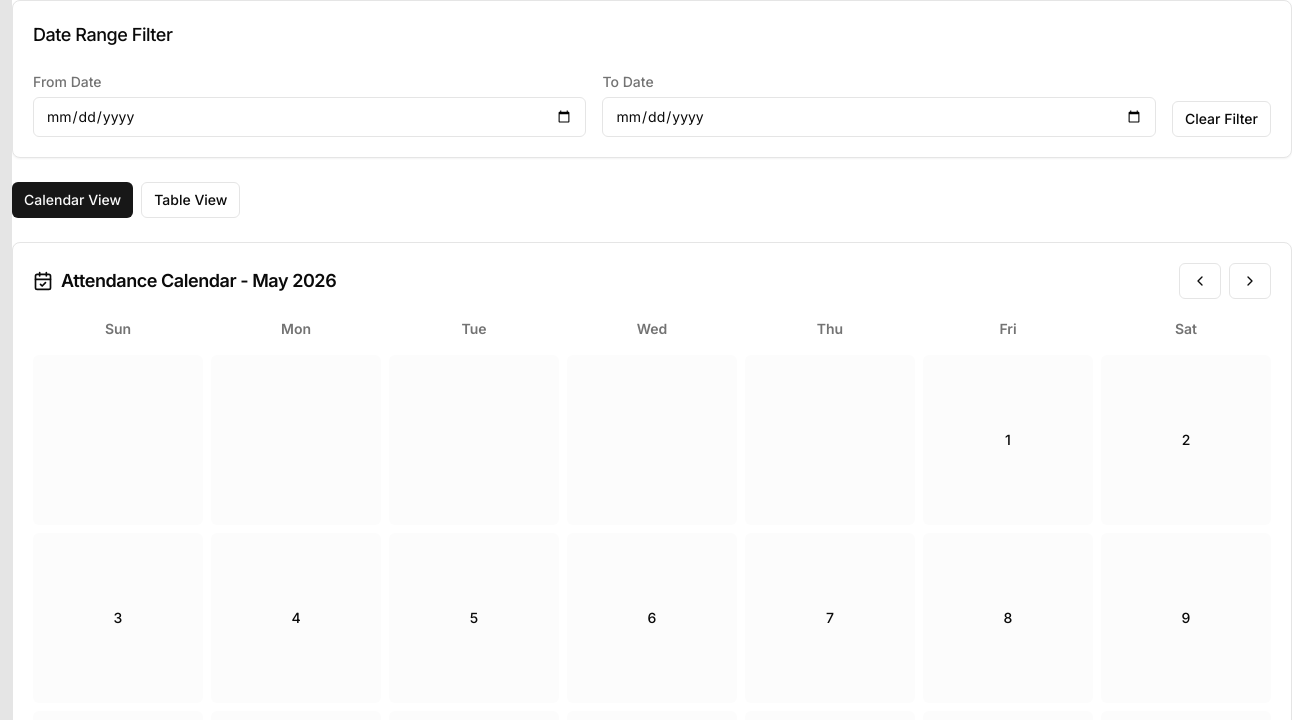
Test: AttendanceHistory Component › Date Range Filter › should clear filter when clear button is clicked
Type "2024-01-16" into the date field labelled "From Date" at (310, 117), box [33,97,586,137]
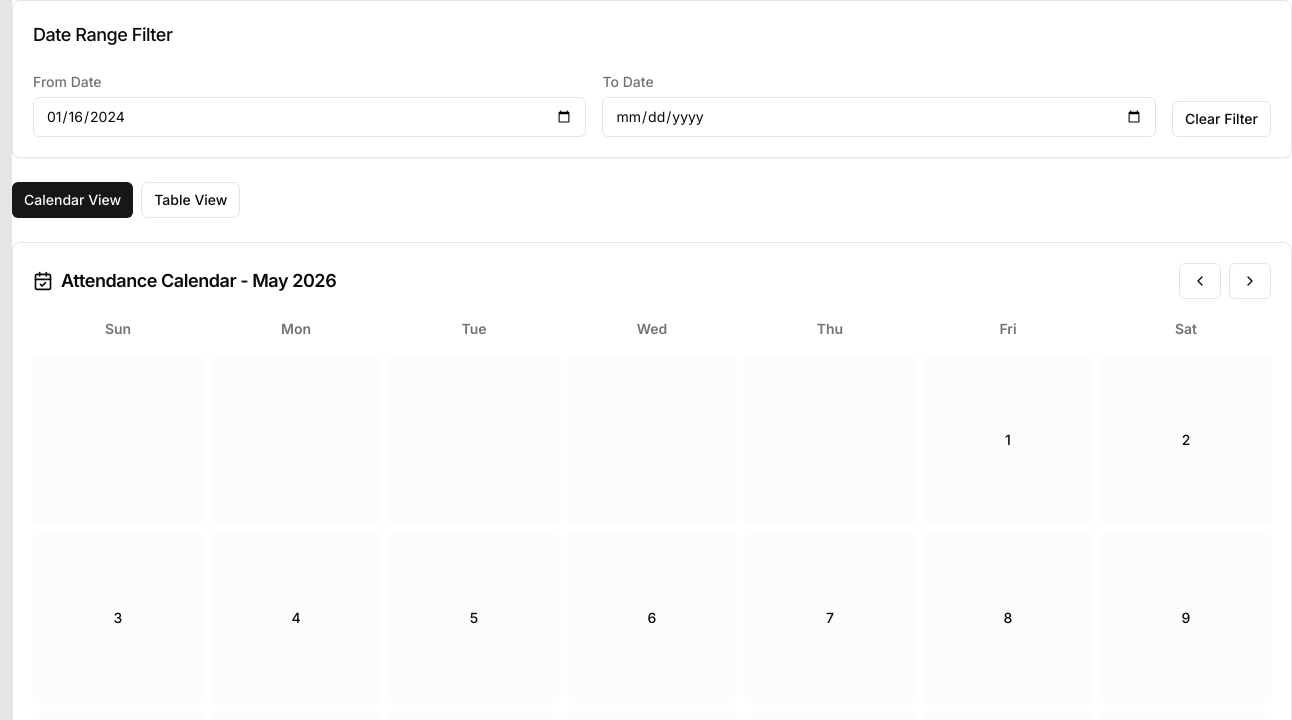
Click the button "Clear Filter" at (1222, 119), box [1172,101,1271,137]
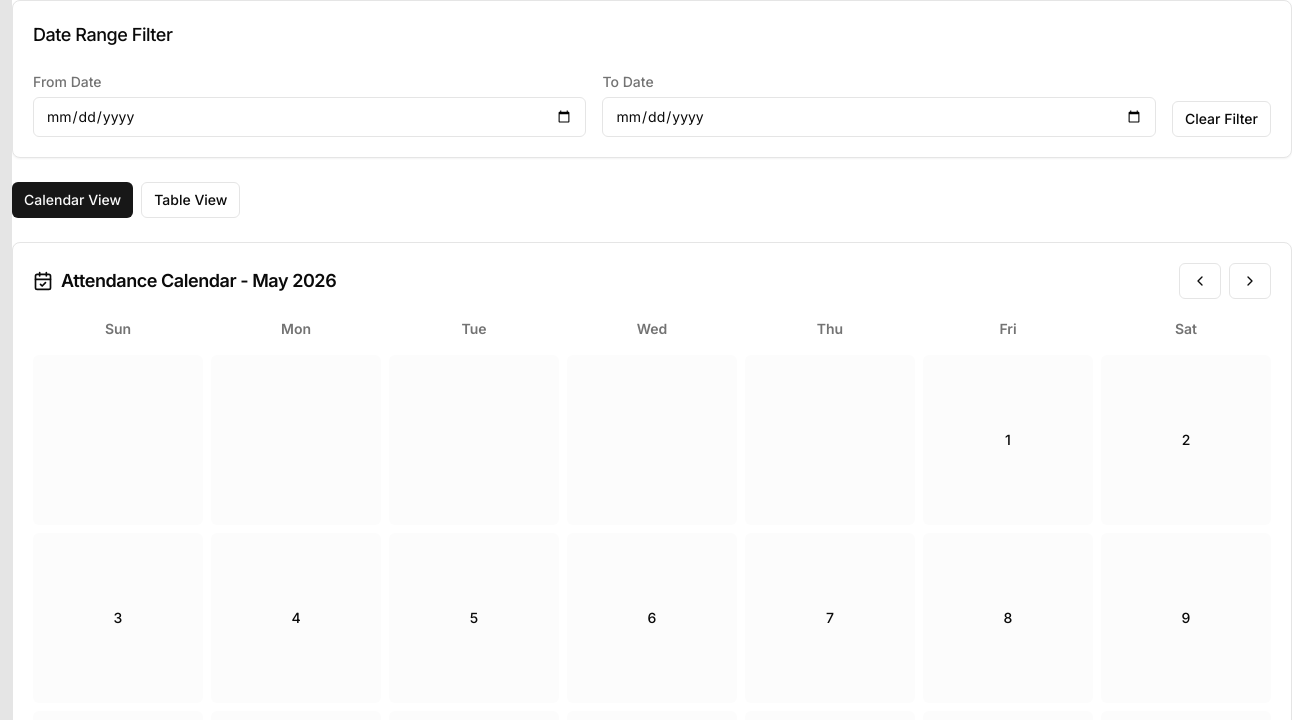
Now the date field labelled "From Date" is empty, box [33,97,586,137]
